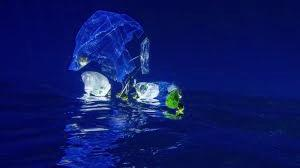Trash: (57, 10, 153, 75)
